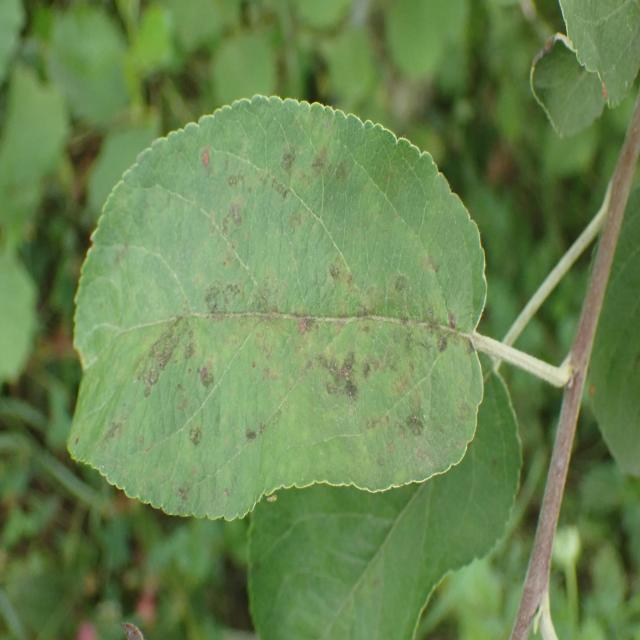scab: (99, 109, 492, 518)
